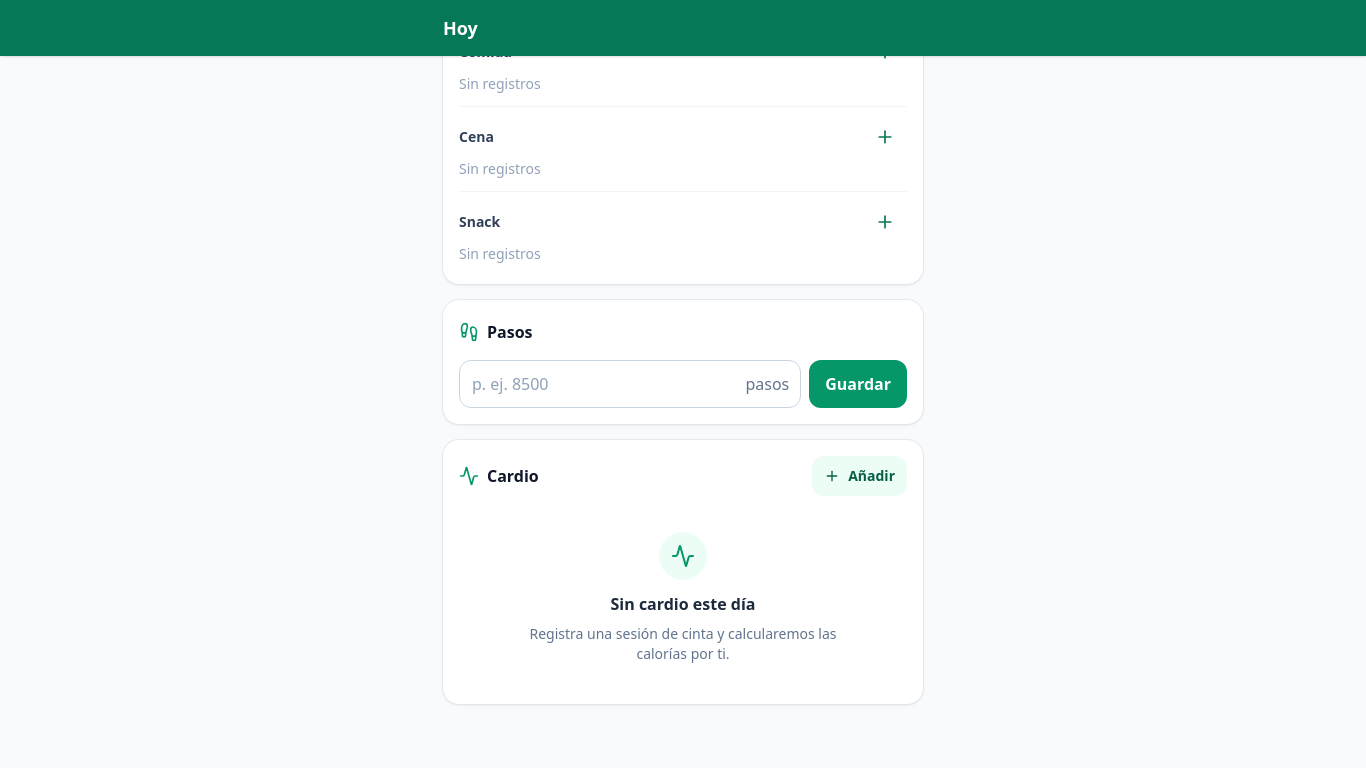
Test case: <TodayScreen> steps › accepts thousands separators and rejects decimals
(page scrolled)
Type "12,5" into the field named "Pasos del día" at (630, 384), box [459,360,801,408]
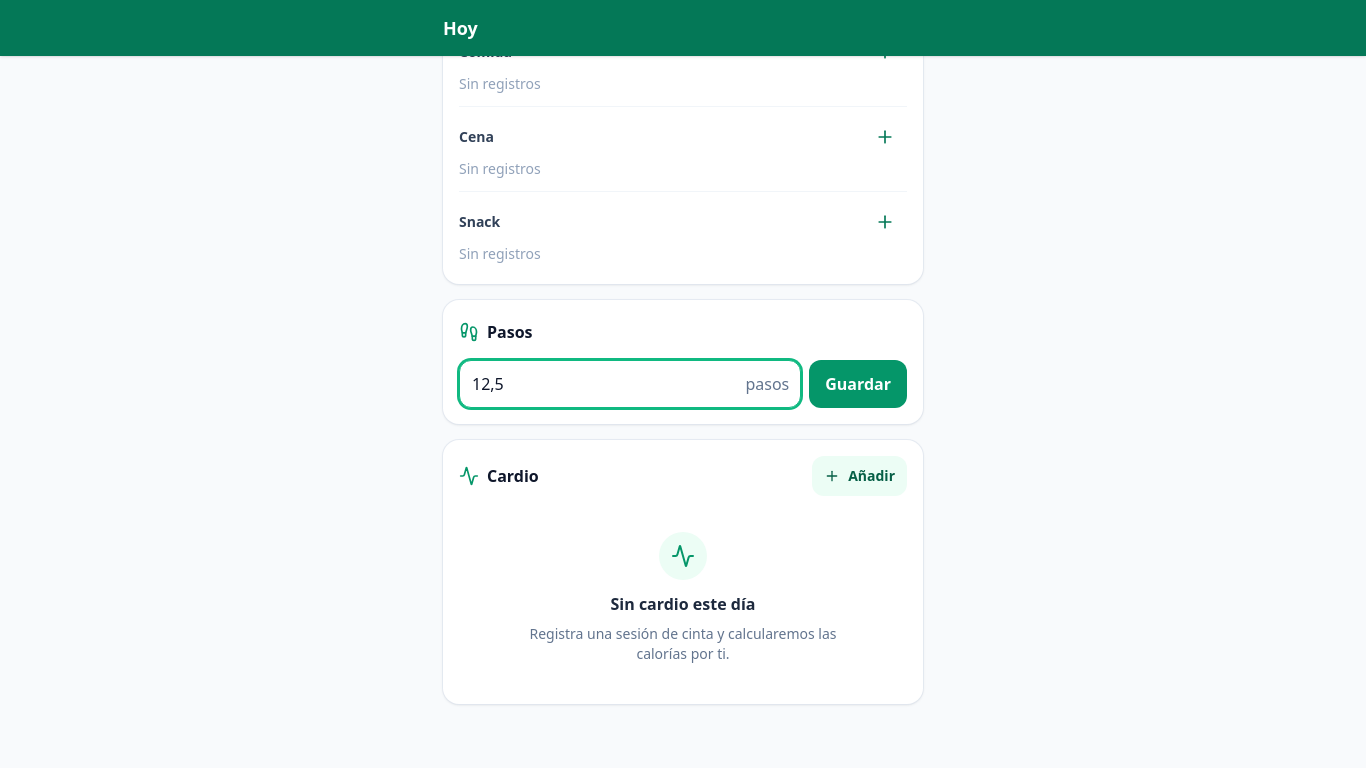
Click the button "Guardar" at (858, 384), box [809,360,907,408]
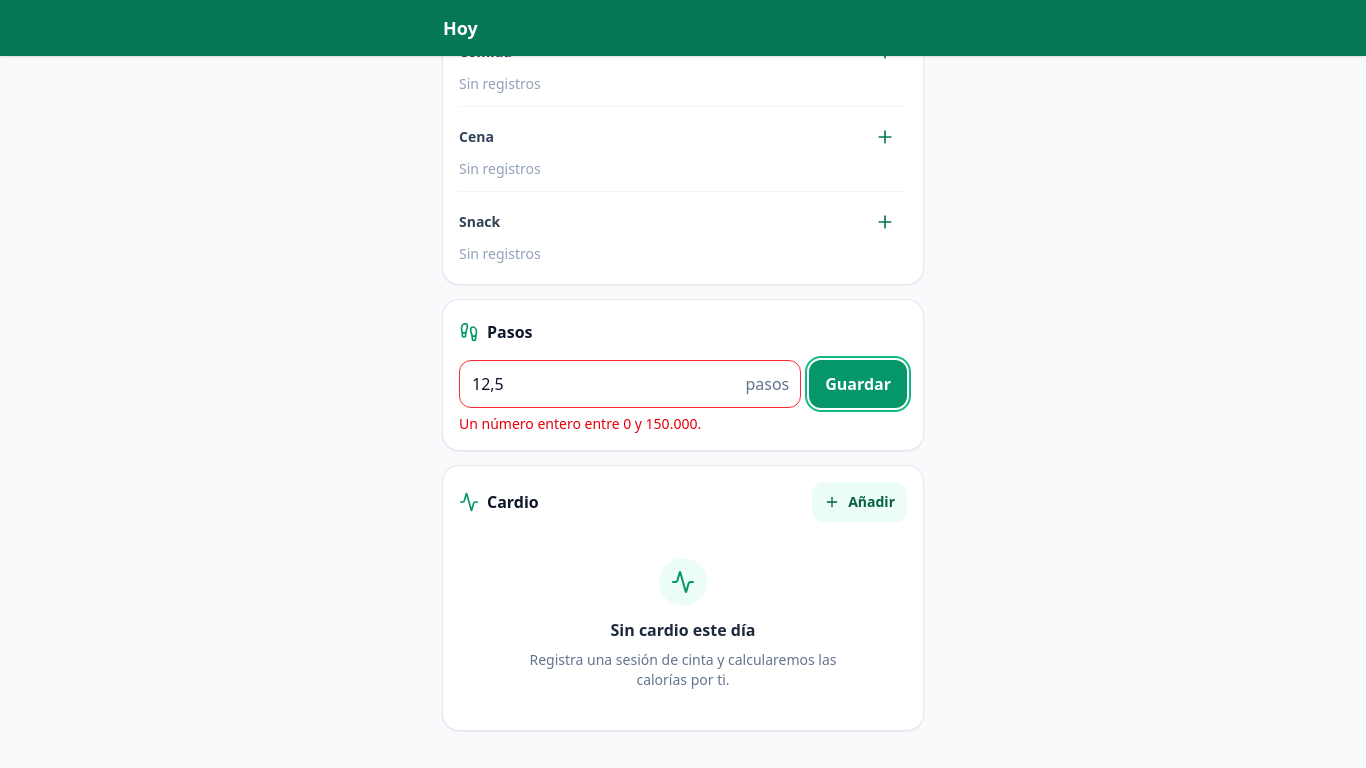
Check: the text "Un número entero entre 0 y 150.000." is shown, box [459,414,701,433]
Replace the text in the field named "Pasos del día" with "8.500" at (630, 384), box [459,360,801,408]
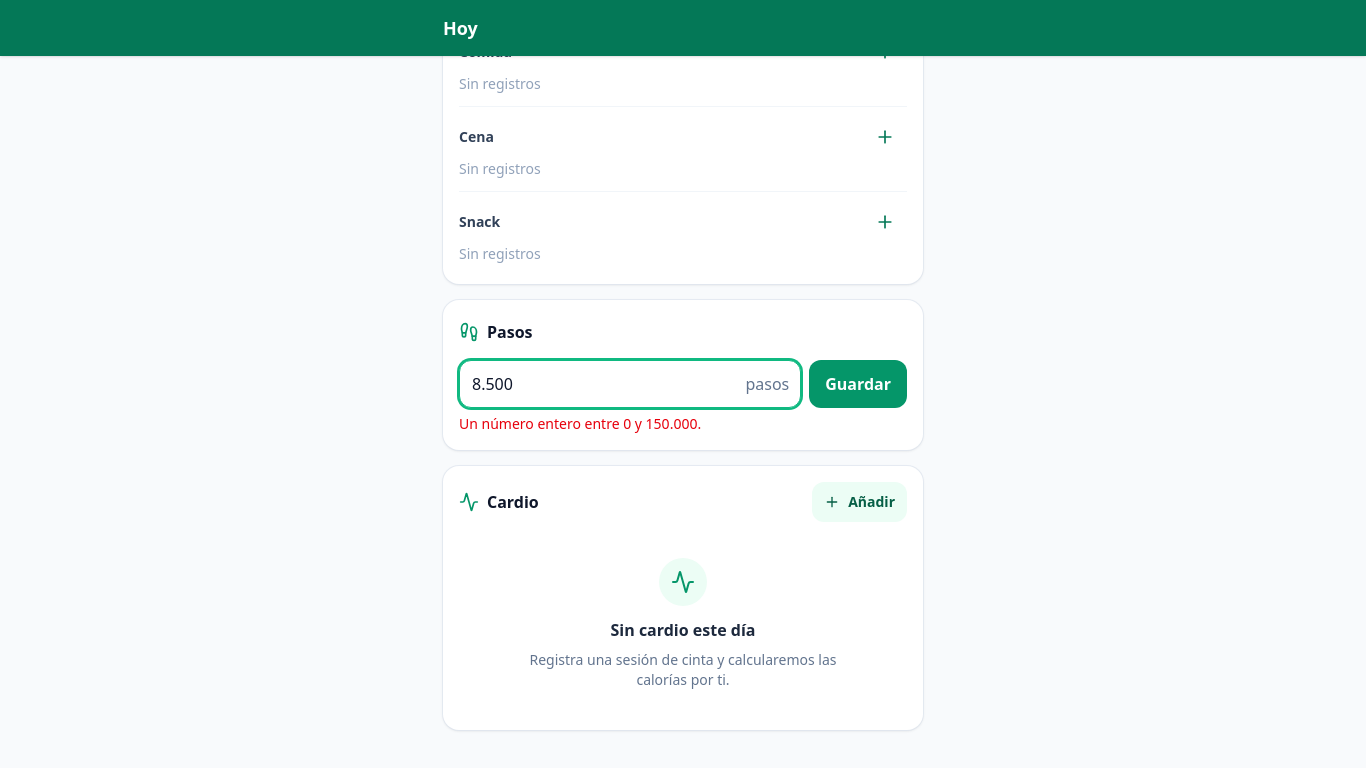
Click the button "Guardar" at (858, 384), box [809,360,907,408]
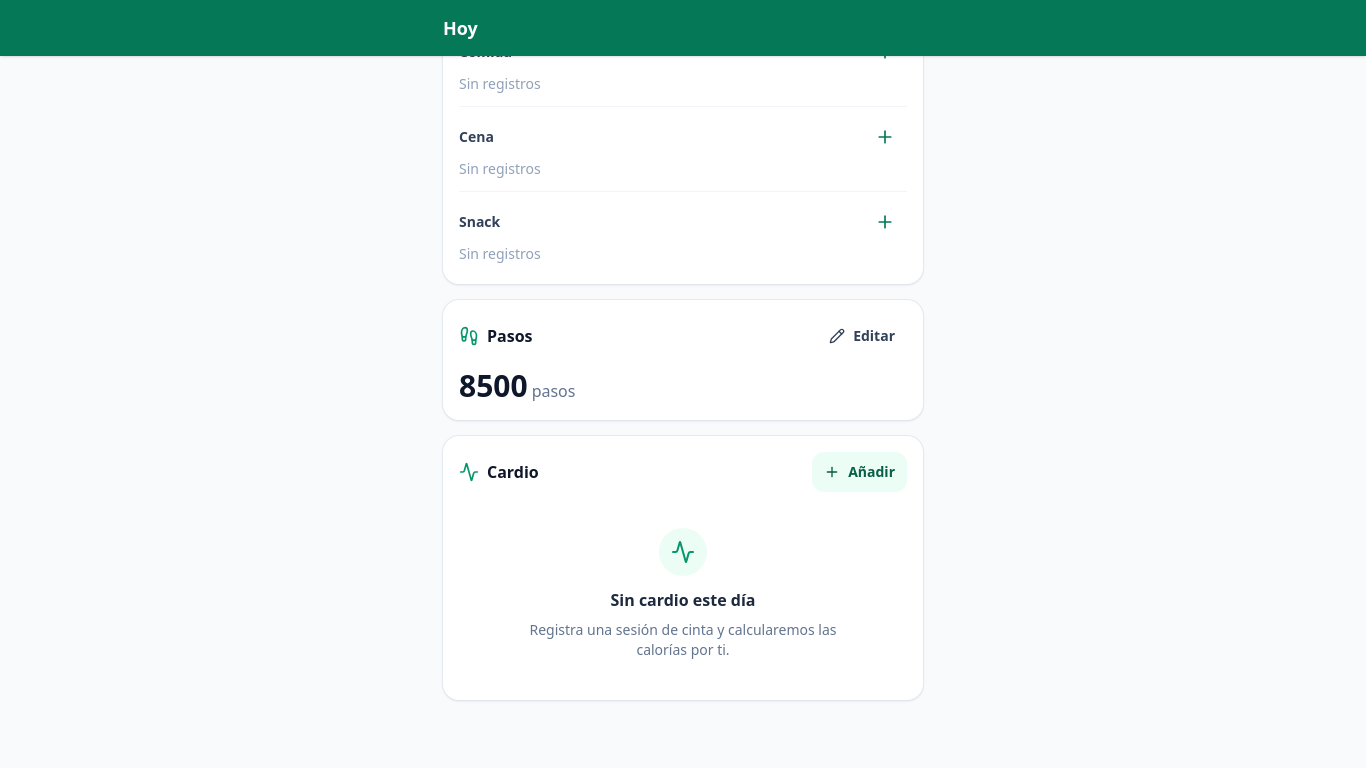
Check: the button with aria-label "8500 pasos. Editar" is shown, box [459,368,907,404]
